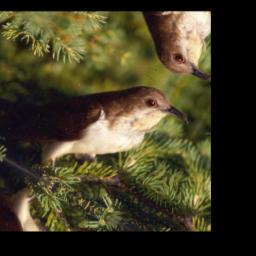Cuckoo: (0, 24, 197, 217)
